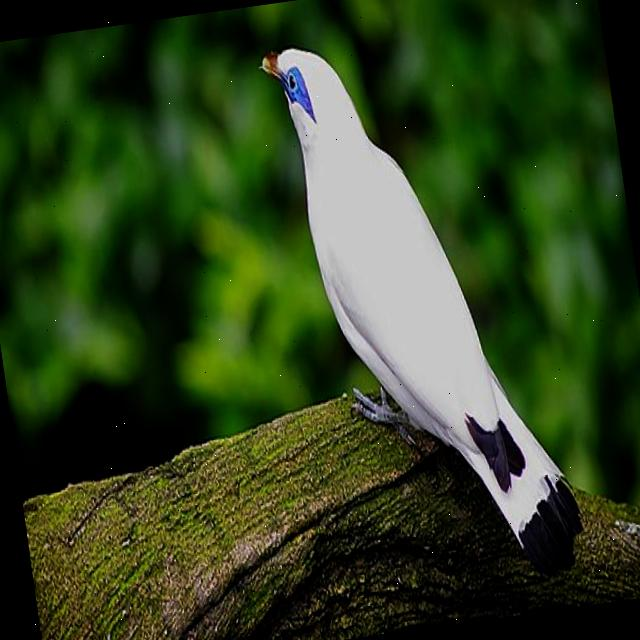Jalak Bali: (238, 0, 602, 622)
